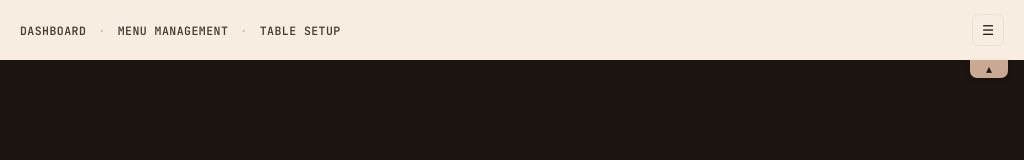
Test: StaffBar menu (hamburger) › opens a menu with only Log out for a staff session
Click the button named "Show menu" at (988, 30), box [972, 14, 1004, 46]
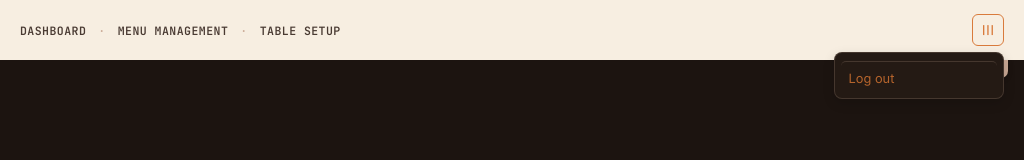
Result: the menu item "Log out" is shown at [841, 61, 997, 93]
